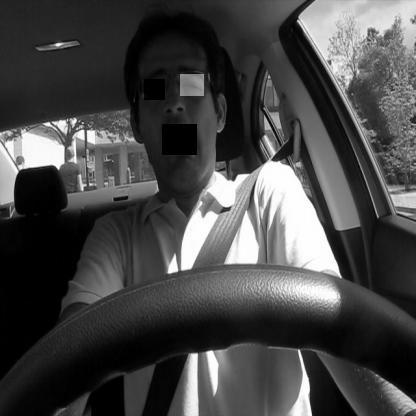seatbelt: (94, 2, 311, 416)
